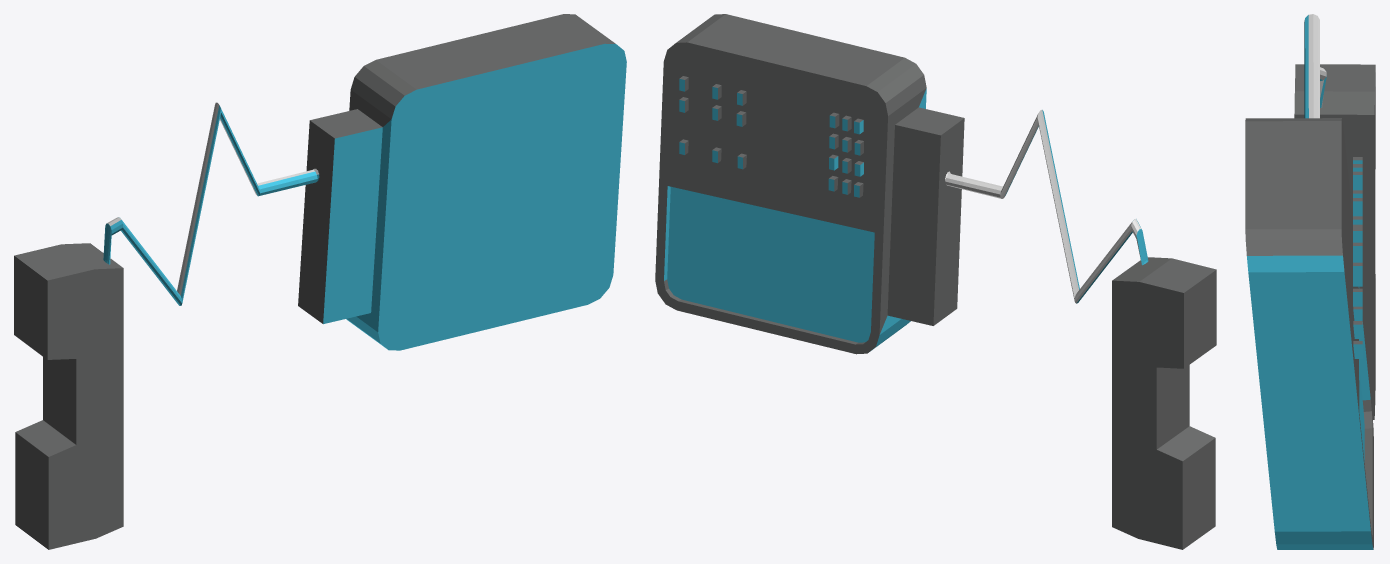
File: Telefono.fbx
The picture shows the model from 3 angles, left to right: view 1: azimuth 30°, elevation 25°; view 2: azimuth 150°, elevation 25°; view 3: azimuth 270°, elevation 25°; orthographic projection. The views are drawn at different scales.
Parts seen in each view (by area): view 1: Cylinder.002; view 2: Cylinder.002; view 3: Cylinder.002.
Boxes of the visible parts, box(x1,y1,x2,y2) form: Cylinder.002: box(14, 14, 626, 549); Cylinder.002: box(655, 14, 1216, 549); Cylinder.002: box(1245, 14, 1375, 549).
Bounding box in the file's own units: 0.4755 × 0.324 × 0.0813.
